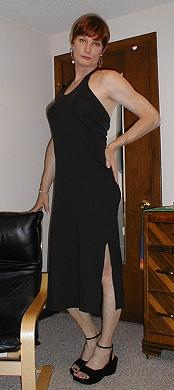person: (28, 12, 163, 386)
